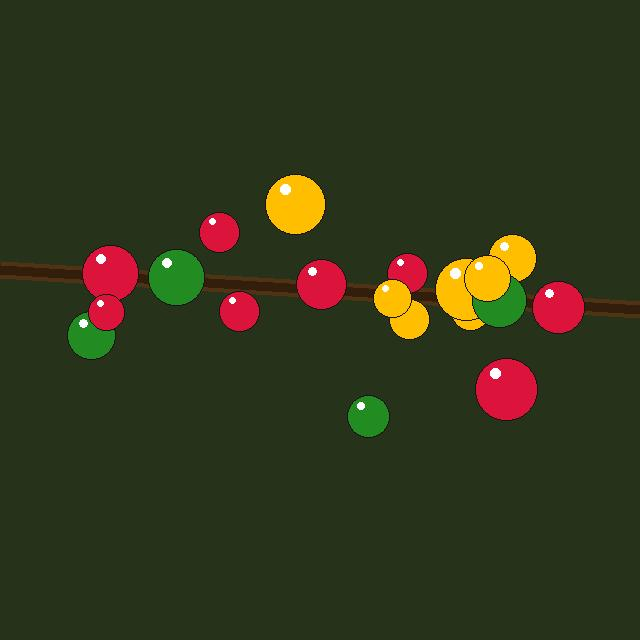Ripe: (475, 358, 537, 420), (82, 245, 138, 301), (532, 281, 584, 333), (296, 259, 346, 309), (387, 253, 427, 293), (199, 212, 239, 252), (219, 291, 259, 331), (88, 294, 124, 330)
Ripening: (435, 258, 497, 320), (265, 174, 325, 234), (488, 234, 536, 282), (464, 255, 510, 301), (389, 299, 429, 339), (451, 292, 489, 330), (373, 279, 411, 317)
Unripe: (148, 249, 204, 305), (472, 273, 526, 327), (67, 311, 115, 359), (347, 395, 389, 437)
